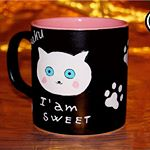cups: (5, 16, 132, 138)
